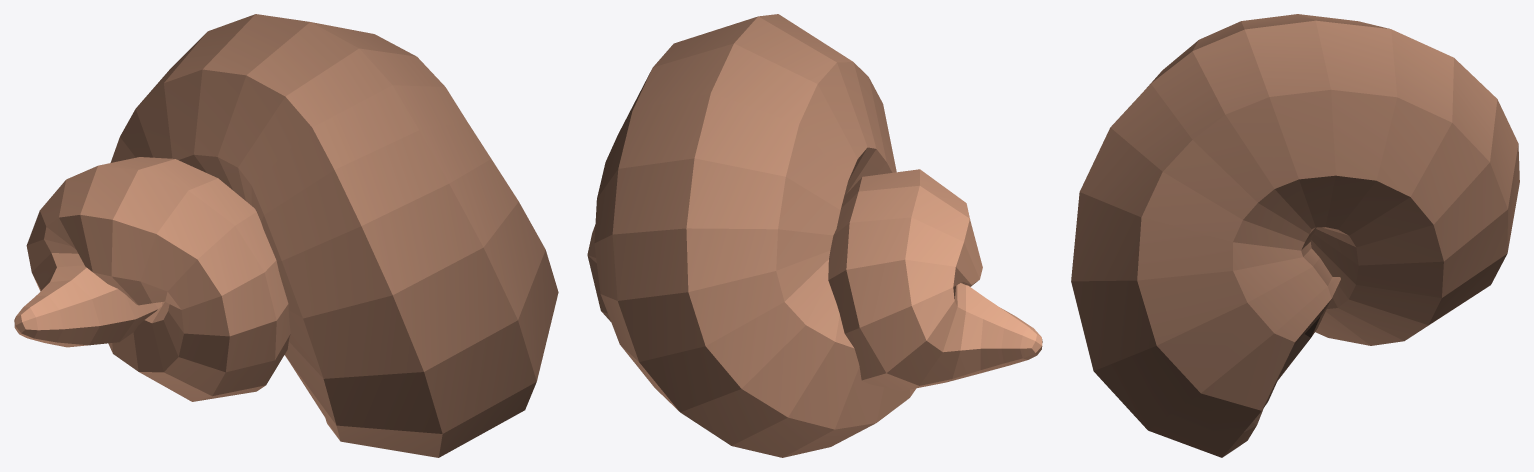
The model's file is shell.glb.
3 views of the same model, side by side, from view 1: azimuth 30°, elevation 25°; view 2: azimuth 150°, elevation 25°; view 3: azimuth 270°, elevation 25° (orthographic). The views are drawn at different scales.
Parts seen in each view (by area): view 1: Cube.020; view 2: Cube.020; view 3: Cube.020.
Part boxes in pixels (left/top/right/bottom): Cube.020: left=14, top=14, right=558, bottom=457; Cube.020: left=587, top=14, right=1042, bottom=457; Cube.020: left=1071, top=14, right=1519, bottom=457.
Bounding box in the file's own units: 2.54 × 2.05 × 2.13.
1 material, 1 textured.
